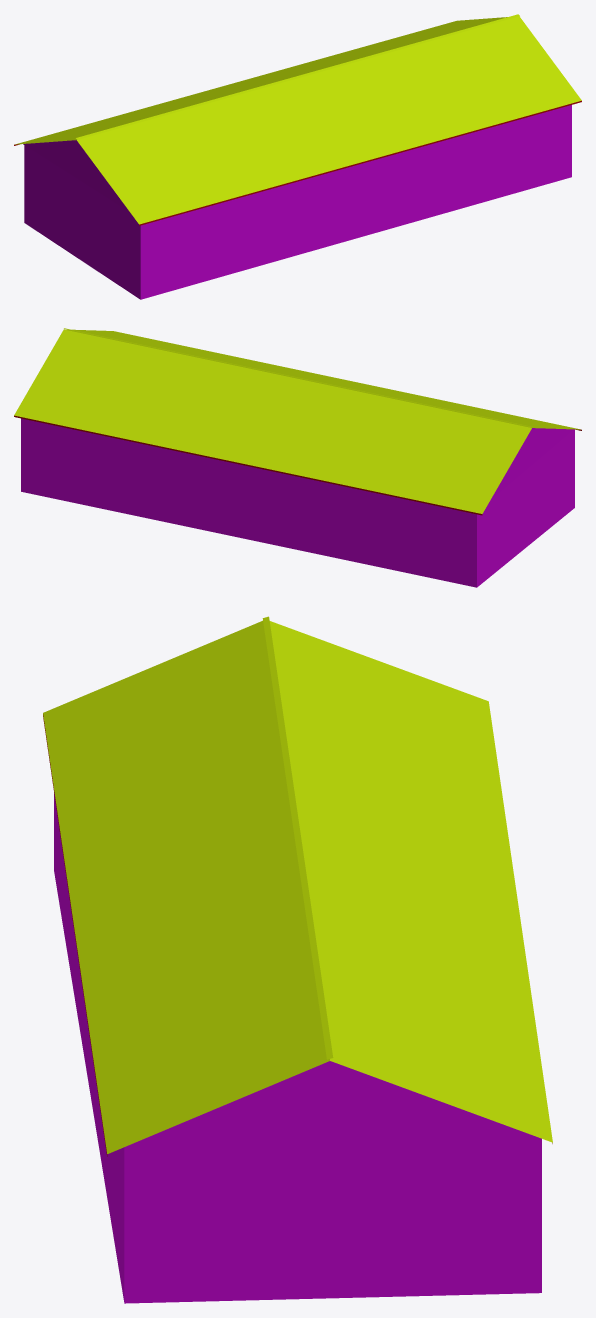
The picture shows the model from 3 angles, top to bottom: view 1: azimuth 30°, elevation 25°; view 2: azimuth 150°, elevation 25°; view 3: azimuth 270°, elevation 25°; orthographic projection. The views are drawn at different scales.
Visible parts, largest first — view 1: sc_2; view 2: sc_2; view 3: sc_2.
Part boxes in pixels (<box>): sc_2: <box>14,14,581,299</box>; sc_2: <box>14,328,581,587</box>; sc_2: <box>43,616,552,1303</box>.
Bounding box in the file's own units: 40.7 × 10.26 × 19.36.
